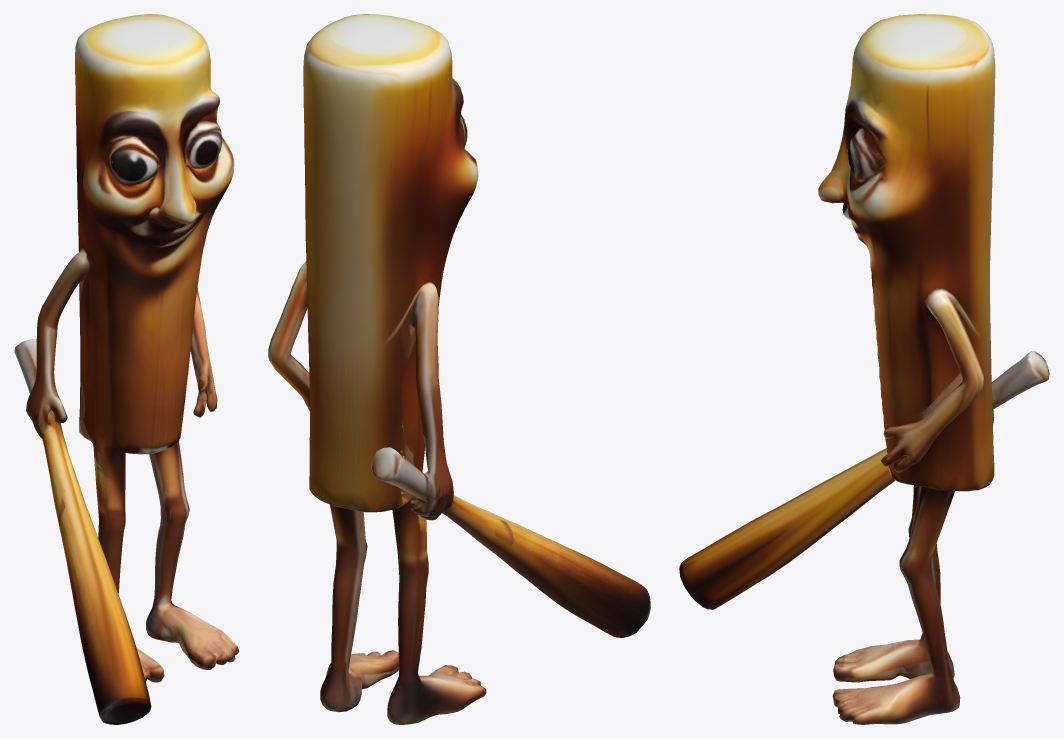
File: Tung_Tung_Tung_Sahur_0929032145_texture.fbx
3 views of the same model, side by side, from view 1: azimuth 30°, elevation 25°; view 2: azimuth 150°, elevation 25°; view 3: azimuth 270°, elevation 25° (orthographic). The views are drawn at different scales.
Visible parts, largest first — view 1: Mesh1.0; view 2: Mesh1.0; view 3: Mesh1.0.
Boxes of the visible parts, <box> form: Mesh1.0: <box>14,14,239,724</box>; Mesh1.0: <box>268,14,650,724</box>; Mesh1.0: <box>679,14,1049,724</box>.
Size of the model in its own units: 75.51 by 200 by 102.
1 material, 1 textured.
